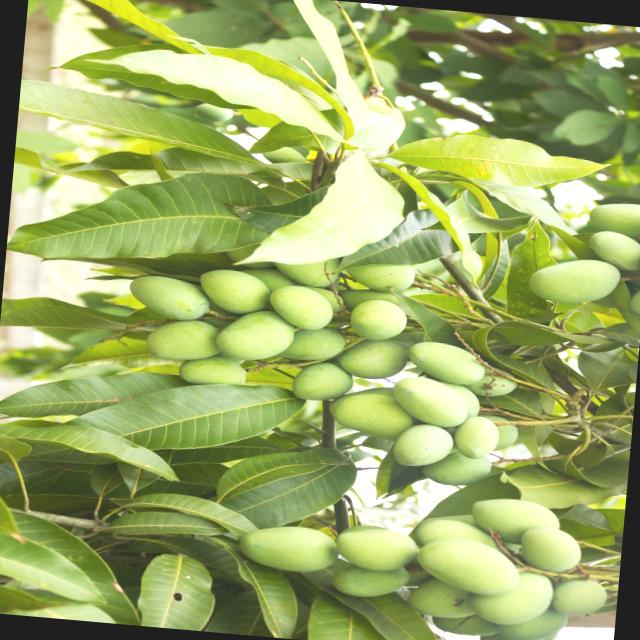mango: (422, 532, 528, 596), (466, 566, 554, 628), (240, 522, 338, 576), (526, 254, 622, 308), (327, 386, 416, 442), (468, 494, 560, 546), (212, 306, 294, 363), (332, 522, 419, 574), (388, 374, 470, 428), (129, 273, 210, 322), (404, 339, 487, 384), (143, 315, 220, 362), (197, 267, 270, 316), (327, 559, 410, 602), (406, 574, 480, 621), (266, 282, 335, 330), (390, 421, 456, 470), (336, 334, 408, 378), (420, 447, 492, 489), (284, 358, 352, 402), (345, 296, 408, 342), (341, 258, 415, 294), (549, 575, 608, 618), (583, 229, 640, 272), (176, 353, 246, 387), (584, 200, 640, 241), (452, 414, 501, 459)
